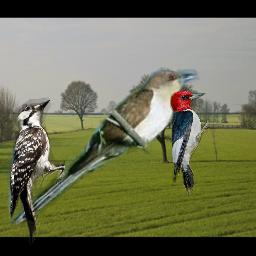Cuckoo: (9, 67, 203, 231)
Woodpecker: (5, 96, 65, 247), (168, 91, 212, 198)
